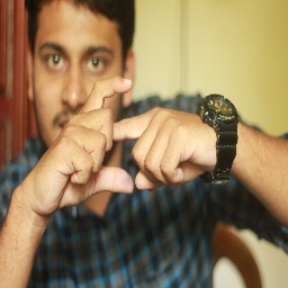E: (73, 70, 166, 205)
